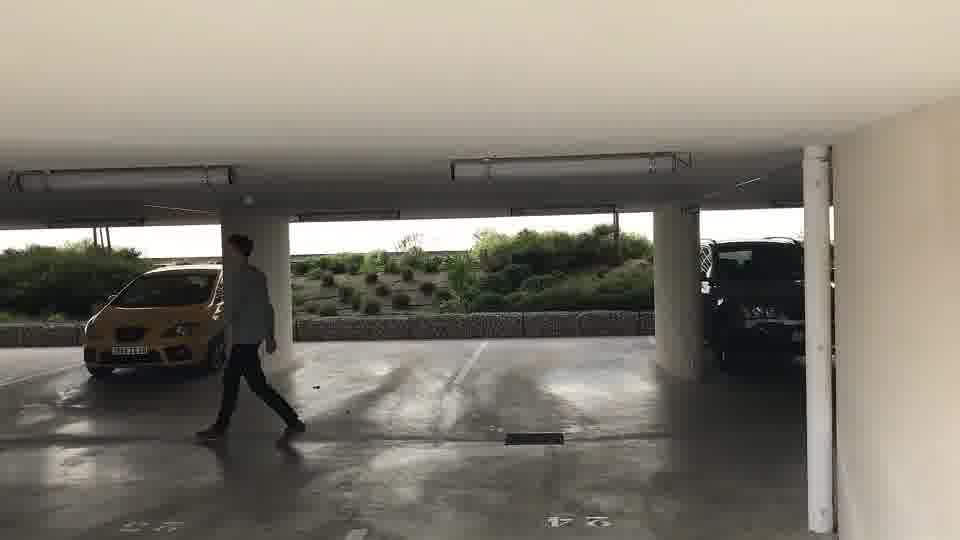jugador: (194, 229, 308, 451)
